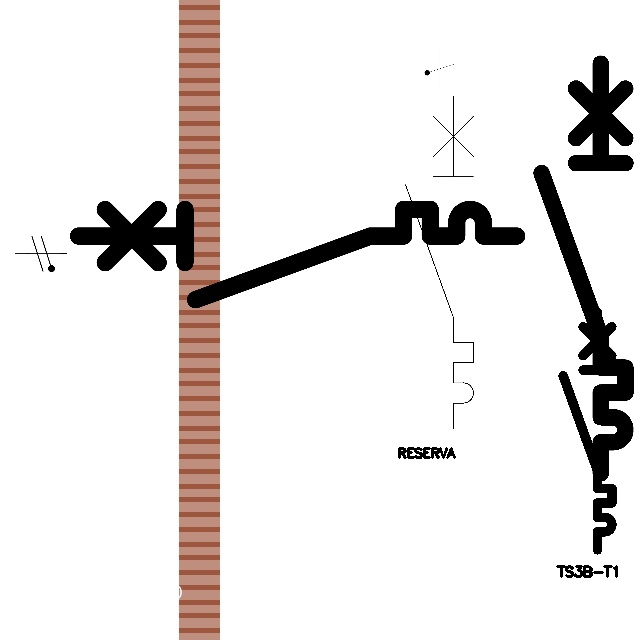interruptor_termomagnetico: (67, 198, 527, 310), (531, 53, 636, 484), (397, 87, 482, 436), (557, 306, 618, 556)
